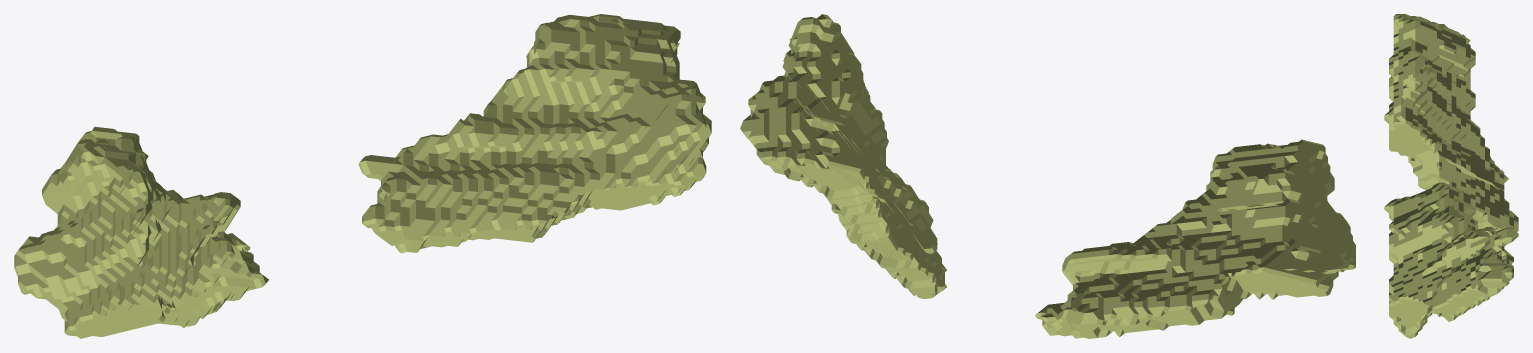
The model's file is region_0097_nLOT-p__nucleus_of_the_lateral_olfactory_tract__posterior_part_.glb.
3 views of the same model, side by side, from view 1: azimuth 30°, elevation 25°; view 2: azimuth 150°, elevation 25°; view 3: azimuth 270°, elevation 25° (orthographic). The views are drawn at different scales.
Visible parts, largest first — view 1: world; view 2: world; view 3: world.
Boxes of the visible parts, x1,y1,x2,y2 form: world: [14, 14, 711, 338]; world: [740, 14, 1355, 338]; world: [1384, 14, 1518, 338].
Bounding box in the file's own units: 0.92 × 0.28 × 0.224.
